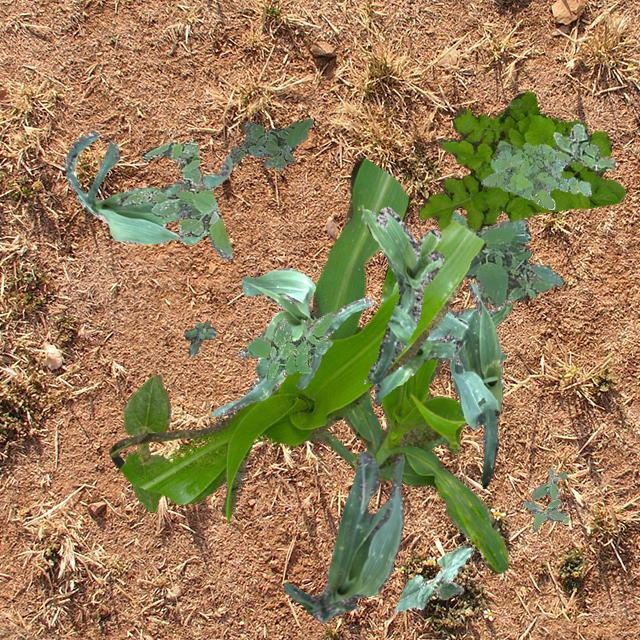crop: (108, 158, 484, 522), (310, 262, 508, 572), (208, 266, 372, 416), (282, 450, 403, 622), (64, 130, 234, 243), (424, 280, 512, 488), (360, 206, 442, 382), (374, 338, 504, 404), (122, 374, 170, 512), (393, 544, 472, 612)
weed: (418, 90, 624, 228), (116, 140, 232, 260), (448, 208, 562, 308), (480, 140, 590, 208), (246, 310, 332, 380), (230, 118, 312, 168), (522, 466, 568, 530), (552, 124, 614, 170), (183, 320, 216, 356)
